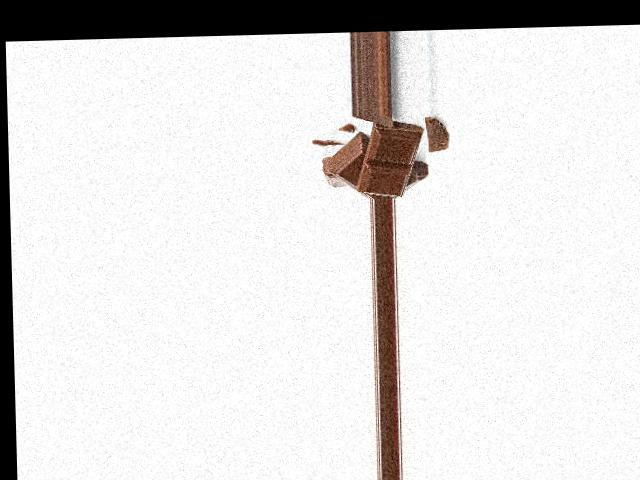chocolate: (354, 122, 422, 195)
